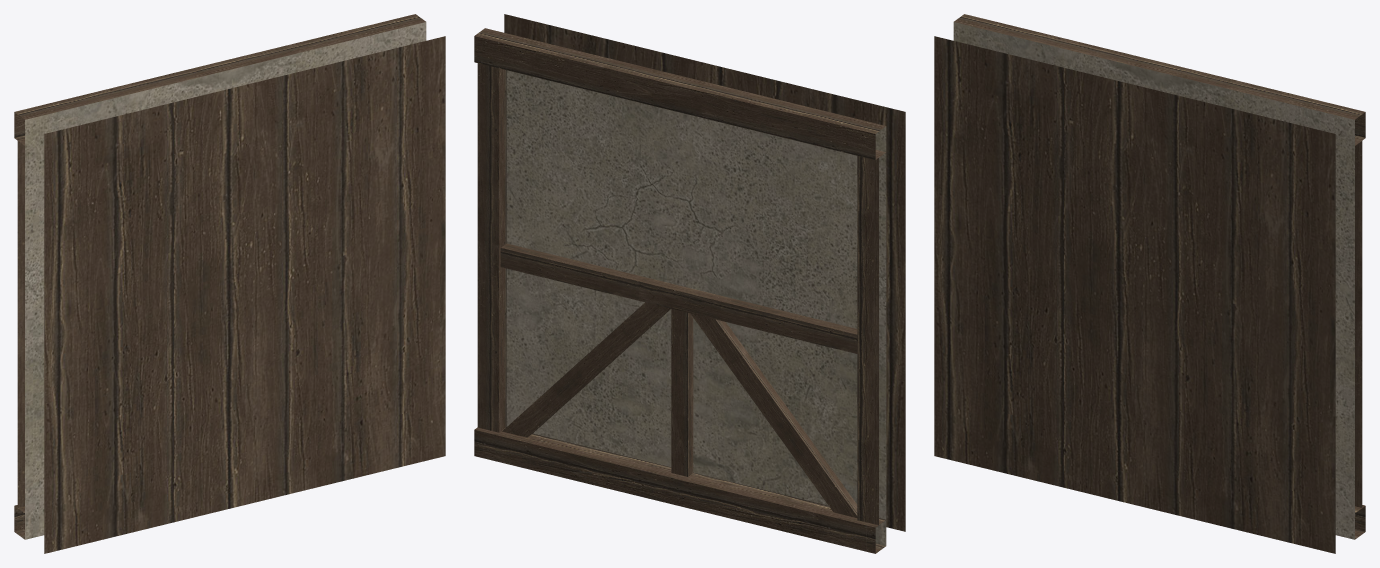
File: ARC1010266.fbx
The picture shows the model from 3 angles, left to right: view 1: azimuth 30°, elevation 25°; view 2: azimuth 150°, elevation 25°; view 3: azimuth 330°, elevation 25°; orthographic projection.
Parts seen in each view (by area): view 1: smARC1010266; view 2: smARC1010266; view 3: smARC1010266.
Part boxes in pixels (x1=…): smARC1010266: x1=14, y1=14, x2=445, y2=553; smARC1010266: x1=474, y1=14, x2=905, y2=553; smARC1010266: x1=934, y1=14, x2=1365, y2=553.
Bounding box in the file's own units: 268 × 268 × 34.9.
Materials: 1 (1 with a texture image).
